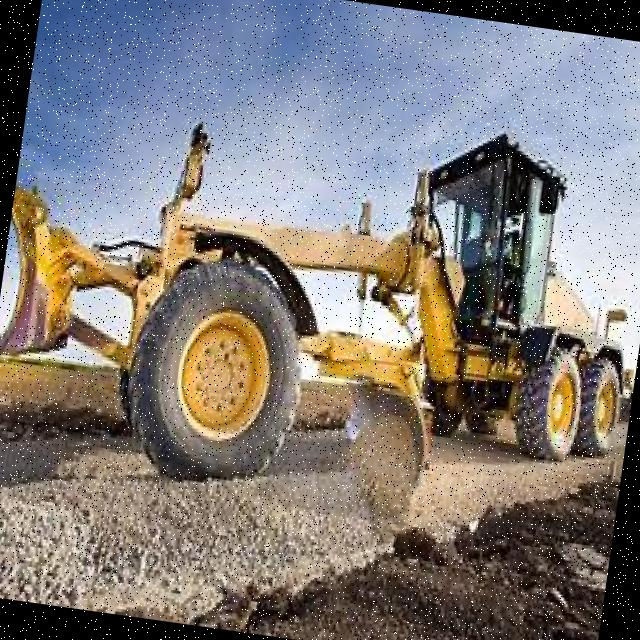Grader: (67, 60, 640, 548)
